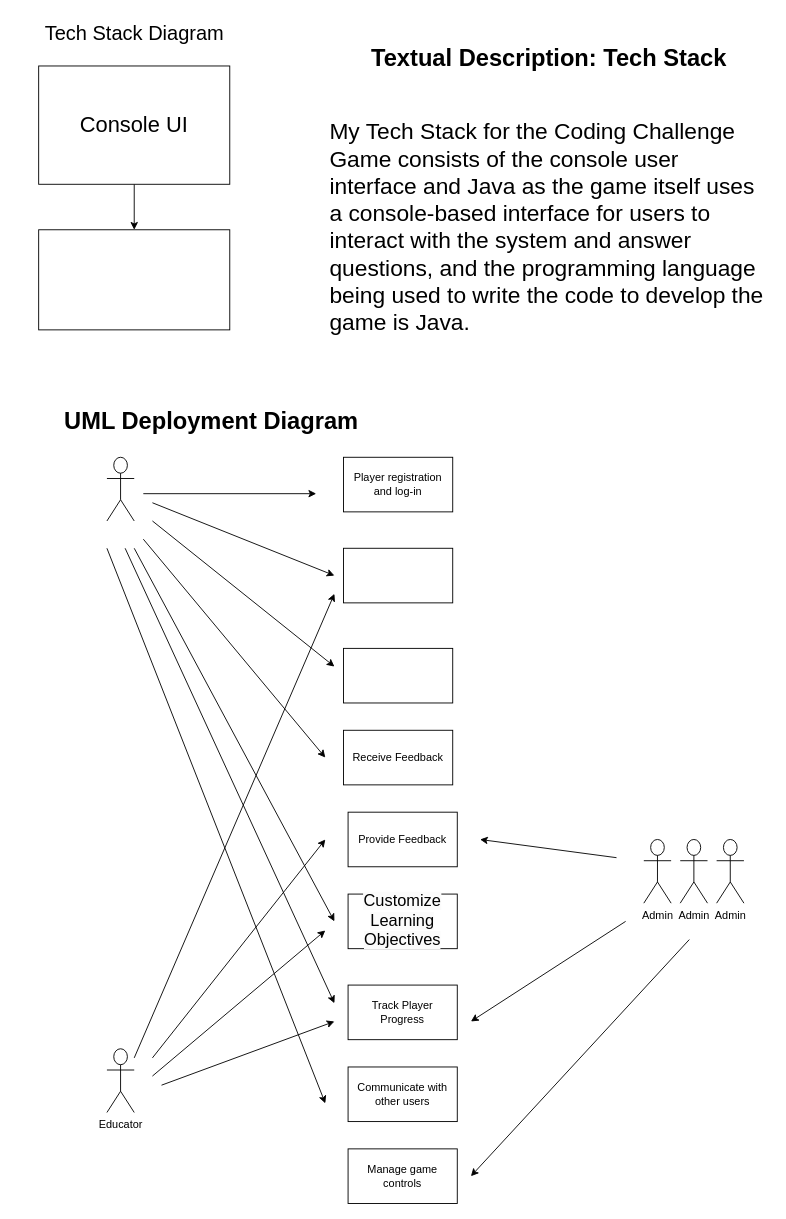
The diagram is 786 pixels wide and 1219 high, and some of its shapes have lost their labels. The centre of each missing label's shape, as x and y in pixels:
"Browse through levels/challenges" belongs at (398,575).
"Java Programming Language" belongs at (134,279).
"Player" belongs at (120,488).
"Solving the challenges" belongs at (398,675).
